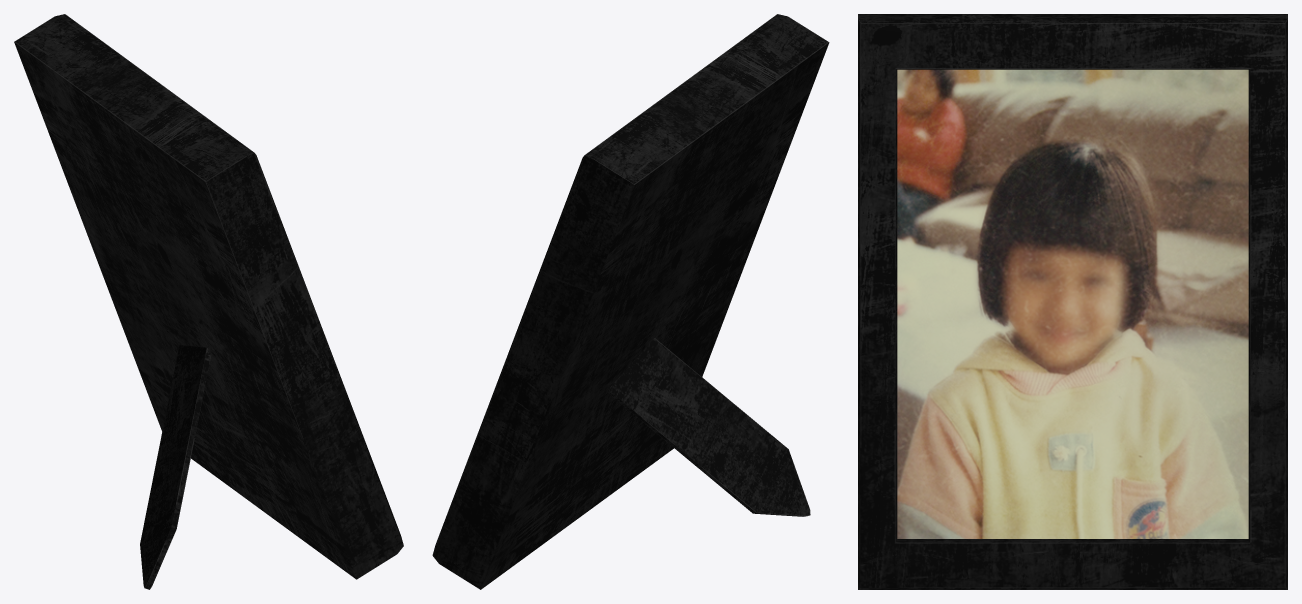
Rendered from frame1_1_emmie portrait.FBX.
The picture shows the model from 3 angles, left to right: view 1: azimuth 30°, elevation 25°; view 2: azimuth 150°, elevation 25°; view 3: azimuth 270°, elevation 25°; orthographic projection. The views are drawn at different scales.
Visible parts, largest first — view 1: frame003; view 2: frame003; view 3: frame003.
Boxes of the visible parts, bbox=[...] form: frame003: bbox=[14, 14, 403, 589]; frame003: bbox=[432, 14, 829, 589]; frame003: bbox=[858, 14, 1287, 589].
Bounding box in the file's own units: 9.58 × 18.69 × 14.37.
Materials: 1 (1 with a texture image).
